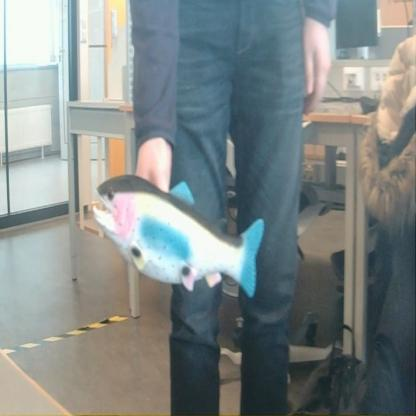rubberfish: (90, 173, 266, 302)
